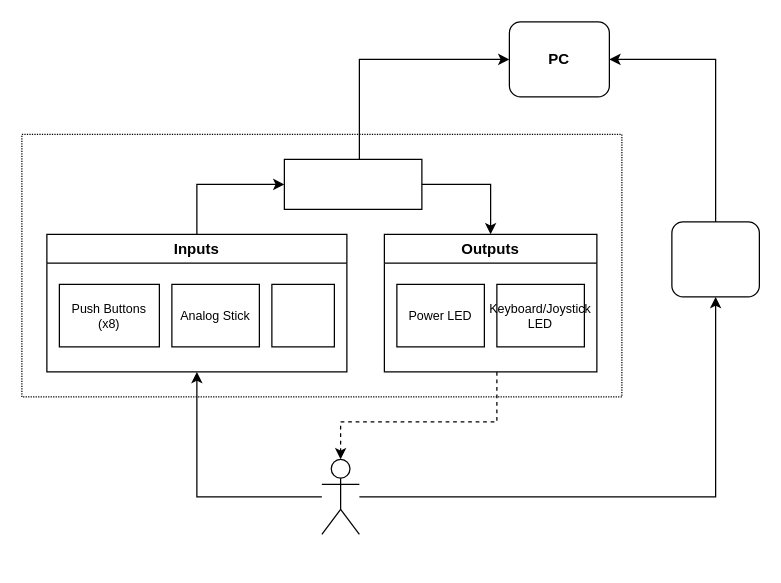
Image size: 781x583. Some labels were removed from this diagram. Here are the shapes that lost their labels. From the top down, the centre of each, then its label:
At (x=352, y=183): "Microcontroller".
At (x=715, y=259): "Mouse".
At (x=302, y=315): "Digital Switch".
At (x=340, y=496): "User".
